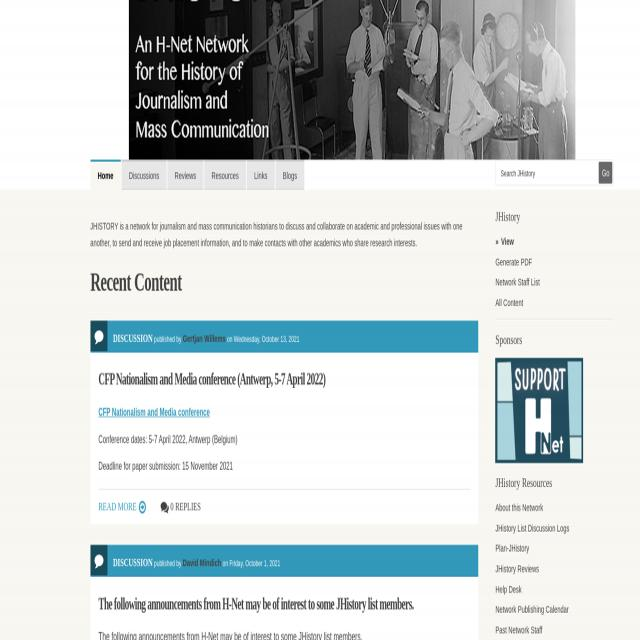button: (128, 0, 575, 160), (495, 358, 583, 463), (122, 160, 166, 190), (204, 160, 246, 190), (168, 160, 204, 190), (90, 160, 121, 190), (247, 160, 275, 190), (276, 160, 304, 190), (598, 162, 612, 183)
field: (496, 160, 598, 183)
